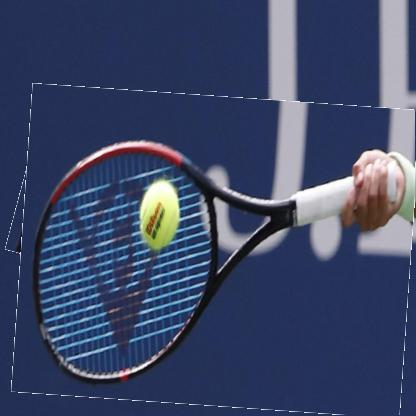tennis: (16, 90, 415, 412), (14, 101, 232, 290)
